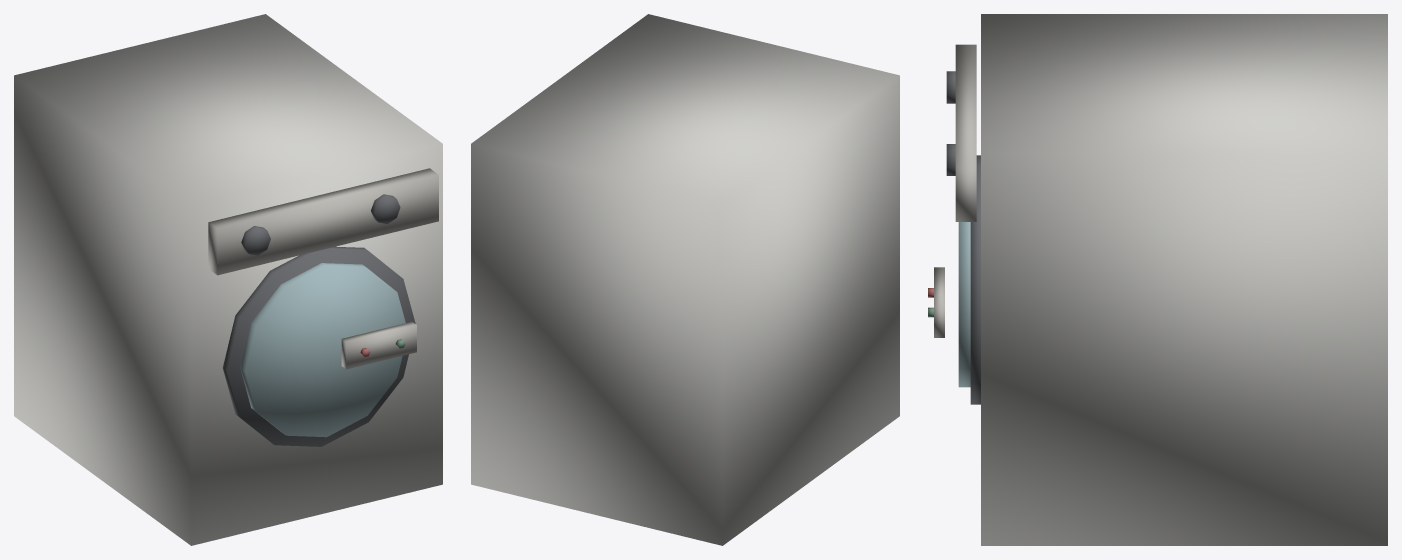
The model's file is domestic_washer__deep.glb.
3 renders of one model, left to right at view 1: azimuth 30°, elevation 25°; view 2: azimuth 150°, elevation 25°; view 3: azimuth 270°, elevation 25°, orthographic. The views are drawn at different scales.
Visible parts, largest first — view 1: world; view 2: world; view 3: world.
Boxes of the visible parts, x1=… form: world: x1=14, y1=14, x2=442, y2=545; world: x1=471, y1=14, x2=899, y2=545; world: x1=928, y1=14, x2=1387, y2=545.
Size of the model in its own units: 0.68 by 0.88 by 0.9376.
